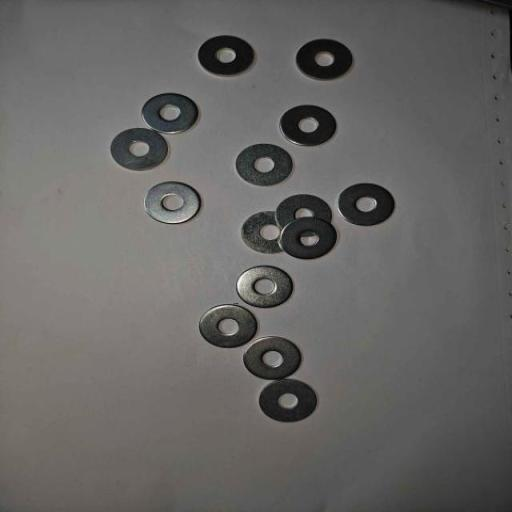Washer: (198, 303, 258, 350), (242, 336, 302, 382), (275, 193, 334, 239), (279, 215, 338, 261), (258, 379, 318, 424), (337, 182, 396, 227), (236, 265, 294, 310), (295, 38, 354, 82), (109, 128, 168, 172), (235, 143, 294, 187), (144, 181, 202, 225), (279, 104, 338, 147), (240, 211, 297, 255), (141, 92, 199, 135), (197, 35, 255, 77)
